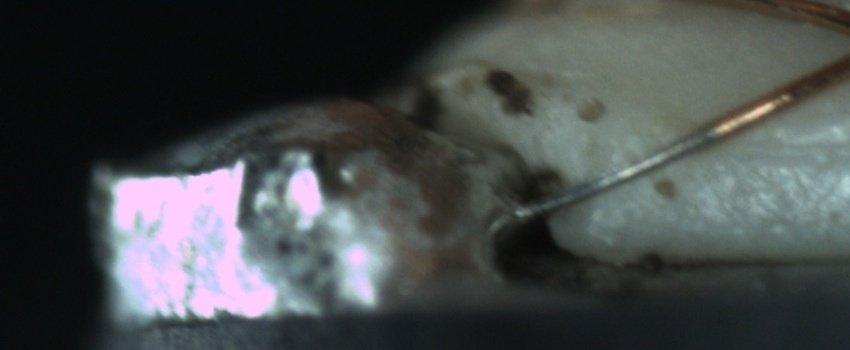DL: (703, 111, 850, 180)
TS: (516, 125, 719, 226)
